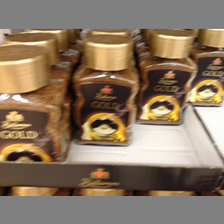coffee: (1, 46, 69, 162), (72, 33, 140, 147), (137, 29, 199, 125)
